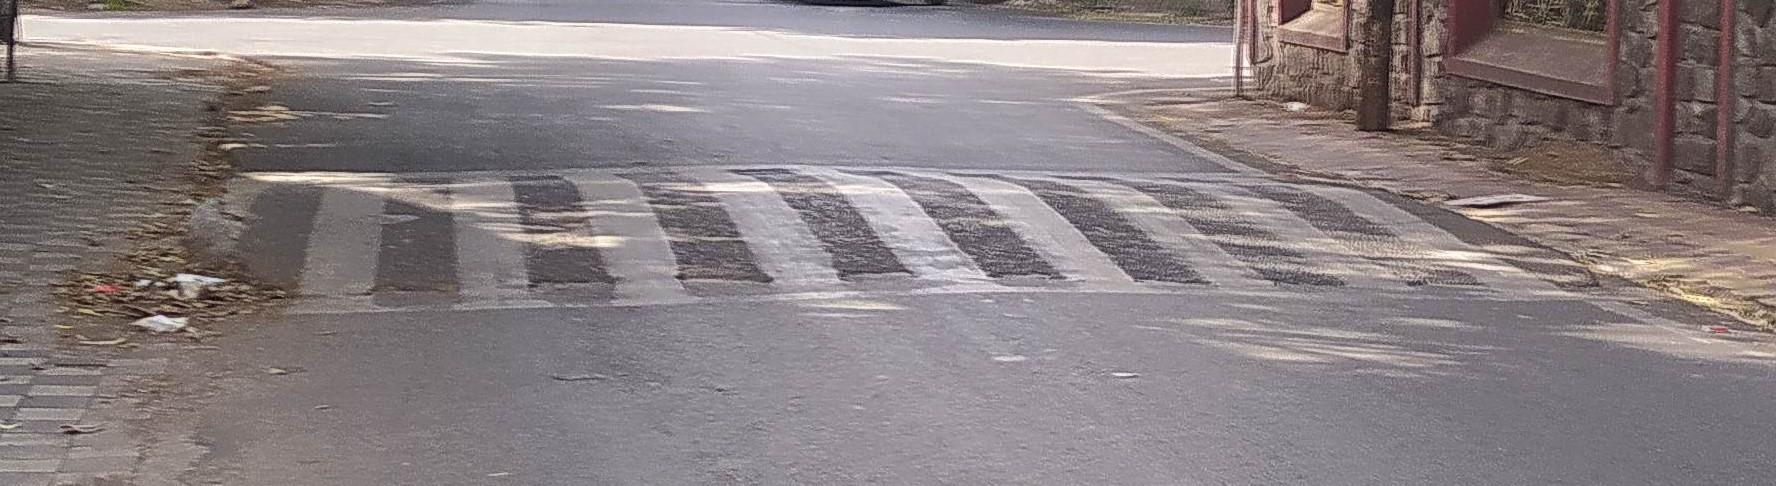speed-bump: (182, 165, 1599, 293)
